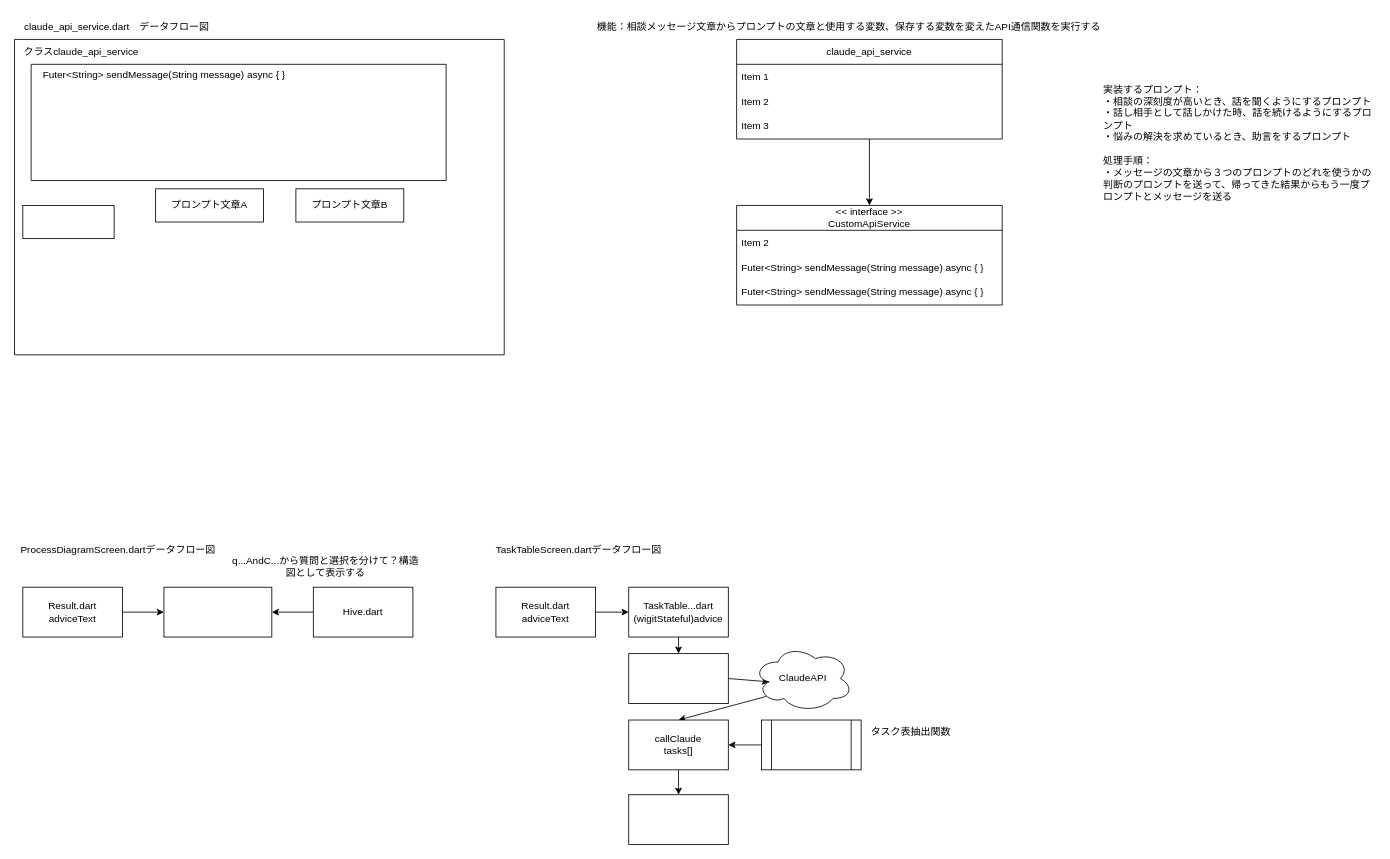
Some shapes in this 1390 by 859 pixel diagram are drawn without their labels. Each missing label, with the centre of its shape:
"Build ListView,Card" goes at (x=678, y=819).
"callClaudeプロンプトwigit.advice" goes at (x=678, y=678).
"extractTasks(rawText)" goes at (x=811, y=744).
"ProcessDiagram…dart wigit.advice questionsAndChoices" goes at (x=217, y=611).
"相談メッセージ" goes at (x=68, y=222).
